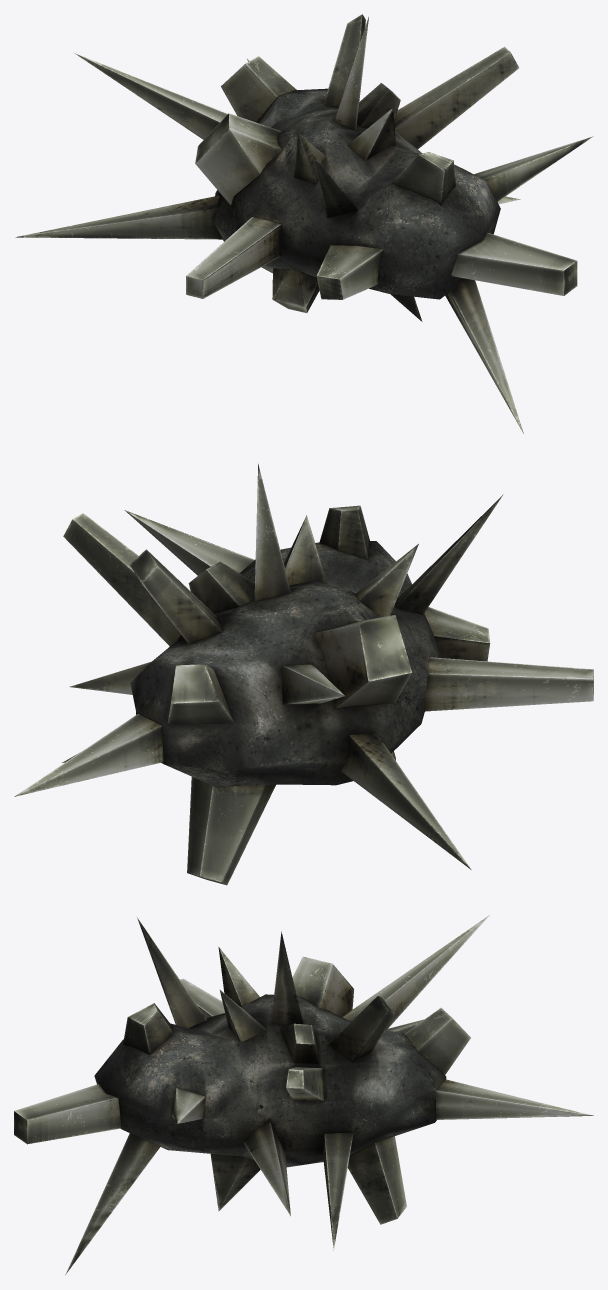
File: asteroid_crystal_6.FBX
The picture shows the model from 3 angles, top to bottom: view 1: azimuth 30°, elevation 25°; view 2: azimuth 150°, elevation 25°; view 3: azimuth 270°, elevation 25°; orthographic projection. The views are drawn at different scales.
Parts seen in each view (by area): view 1: asteroid_crystal_6; view 2: asteroid_crystal_6; view 3: asteroid_crystal_6.
Part boxes in pixels (x1,y1,x2,y2): asteroid_crystal_6: [15, 14, 593, 433]; asteroid_crystal_6: [14, 464, 593, 885]; asteroid_crystal_6: [14, 915, 593, 1274].
Size of the model in its own units: 66.14 by 49.72 by 80.16.
